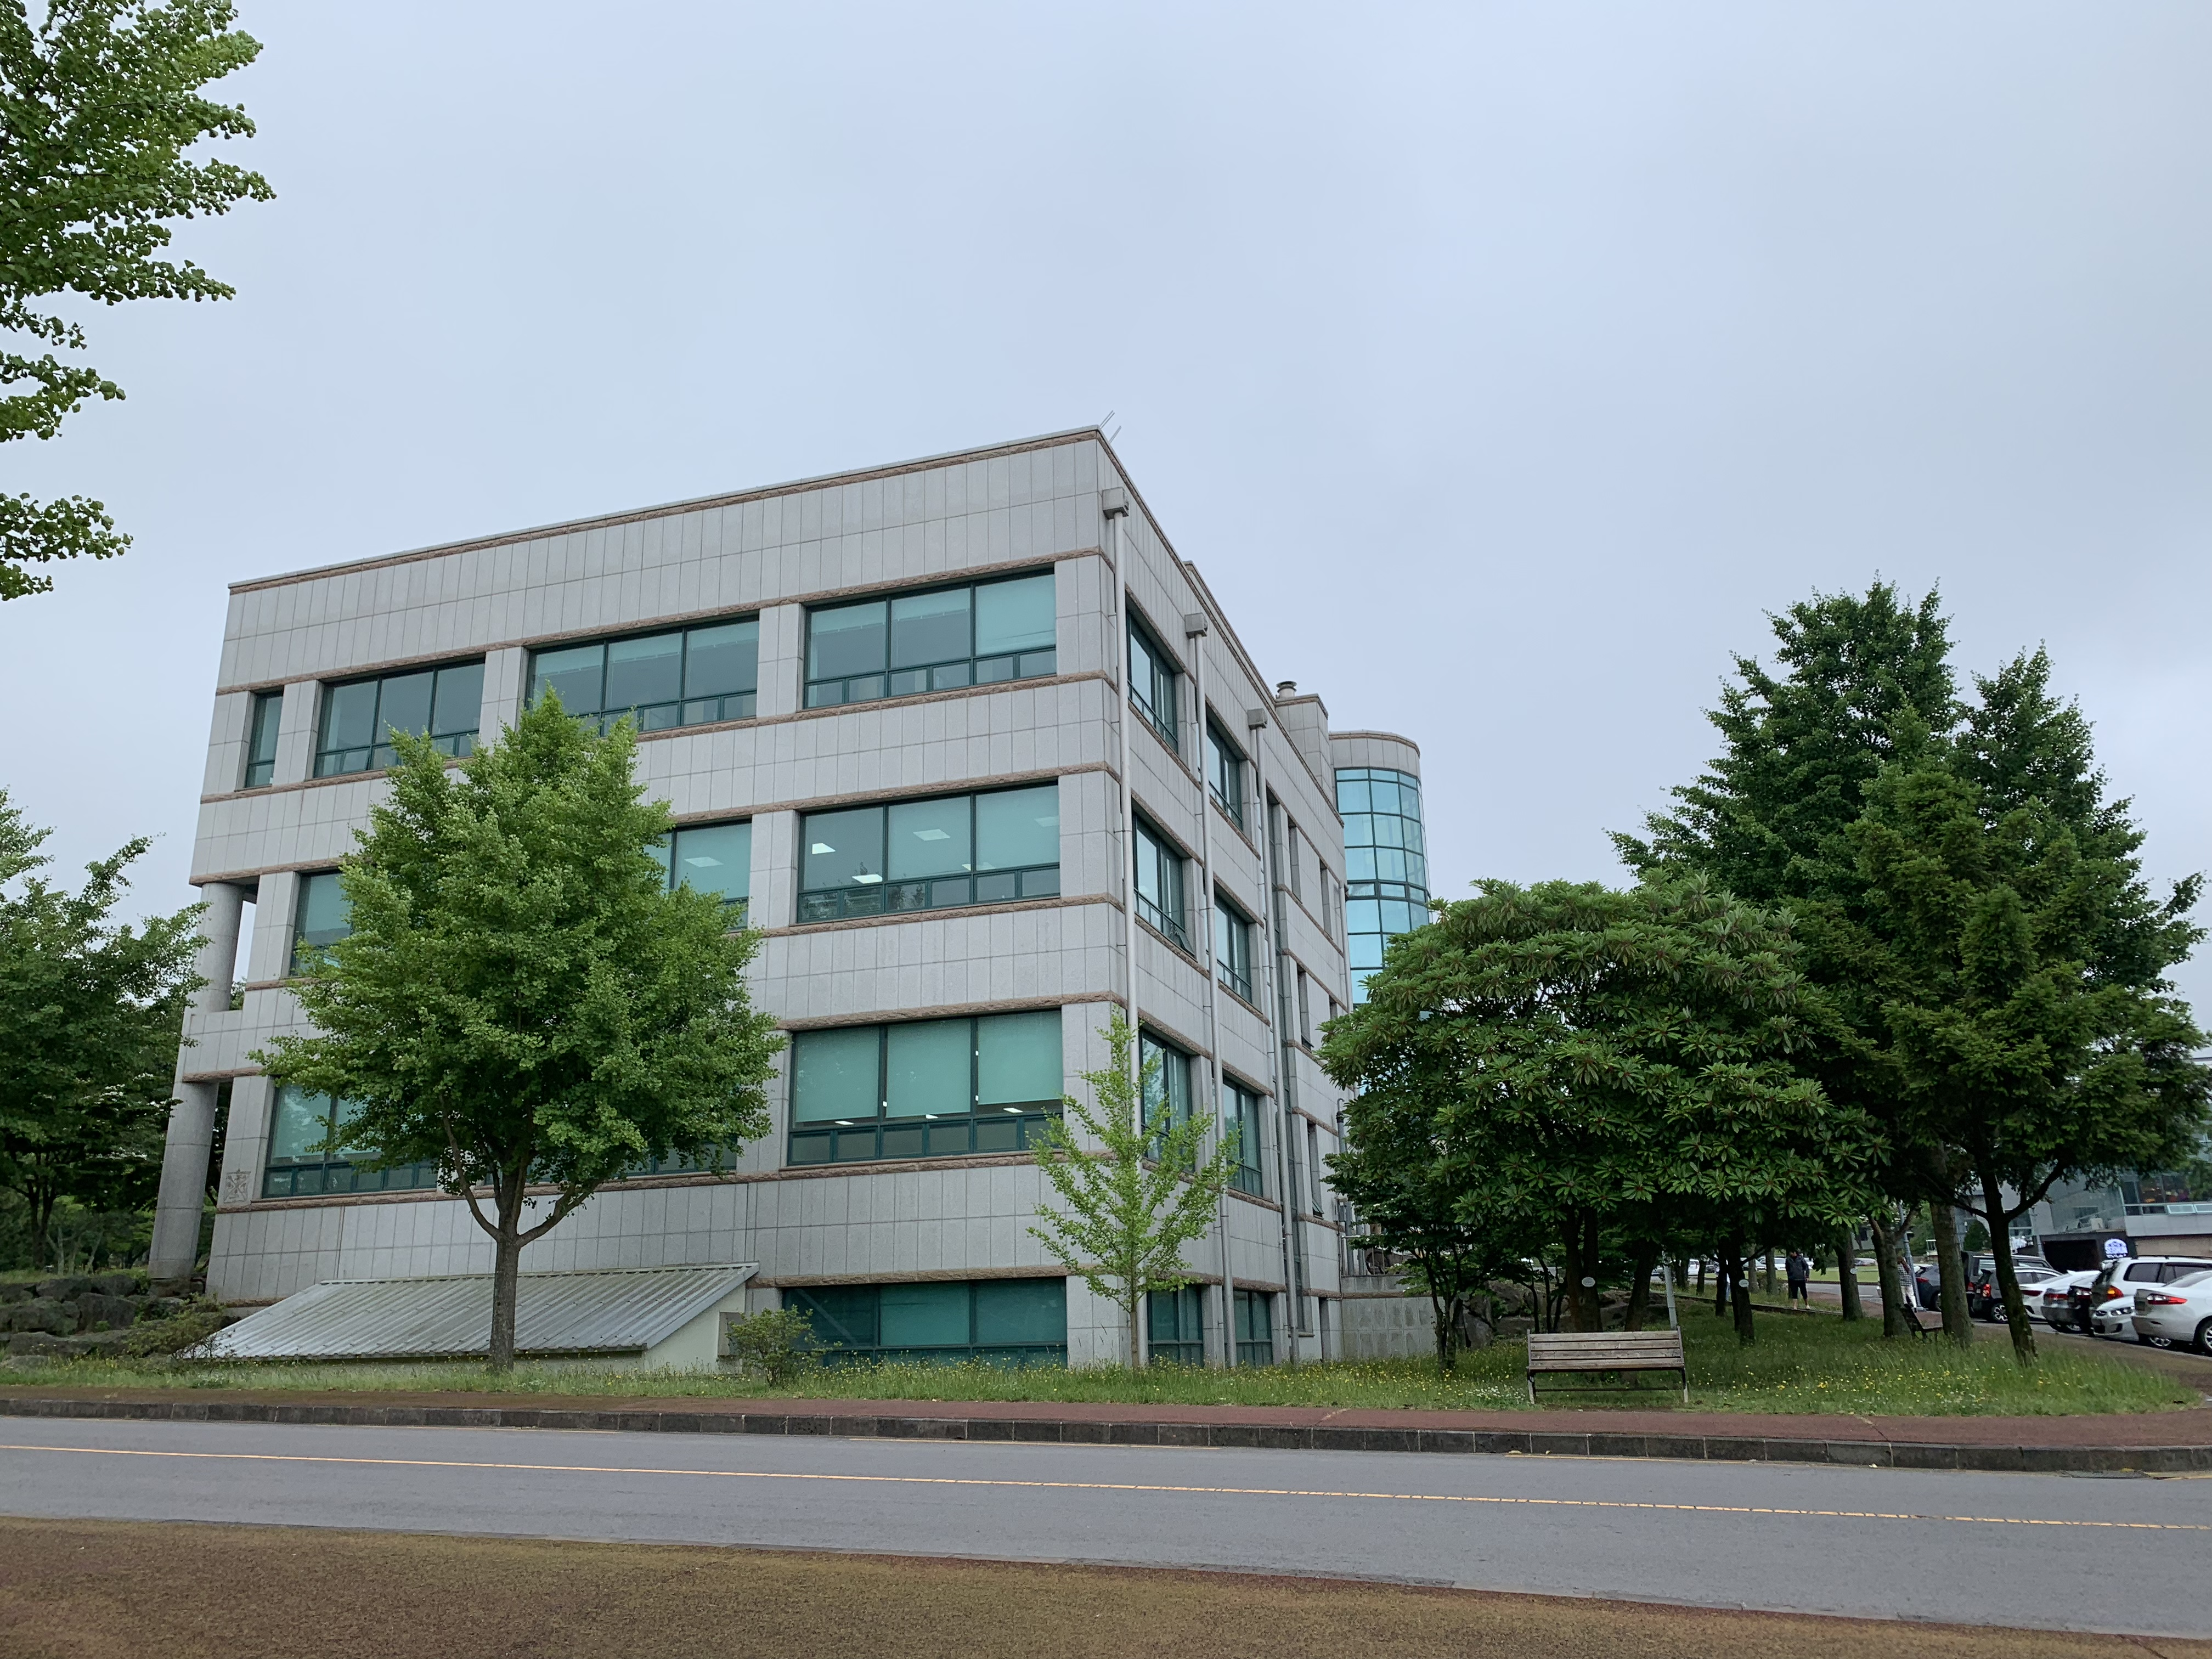Global House: (2036, 1148, 2212, 1241)
Second Library: (169, 460, 1465, 1399)
